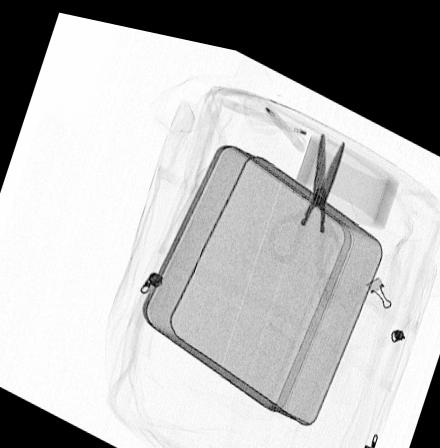Scissors: (266, 116, 350, 267)
